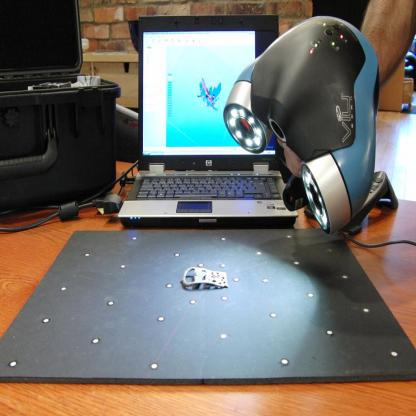board: (119, 21, 296, 237)
